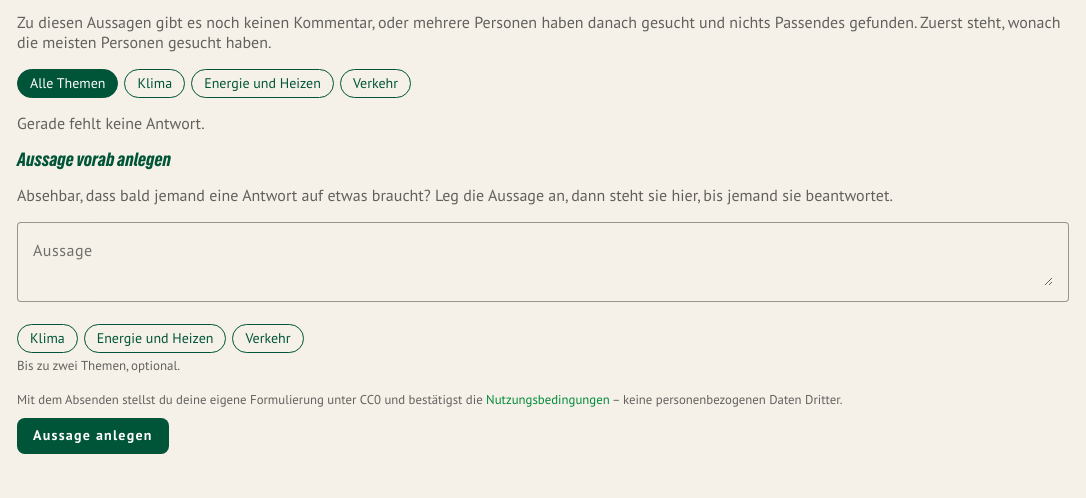
Test: HierFehltEineAntwortComponent › Aussage vorab anlegen › sagt, wenn die neue Aussage ihre Themen nicht bekam
Type "Das Heizungsgesetz enteignet uns" into the text box named "aussage". click: (543, 262)
box: left=33, top=238, right=1053, bottom=286
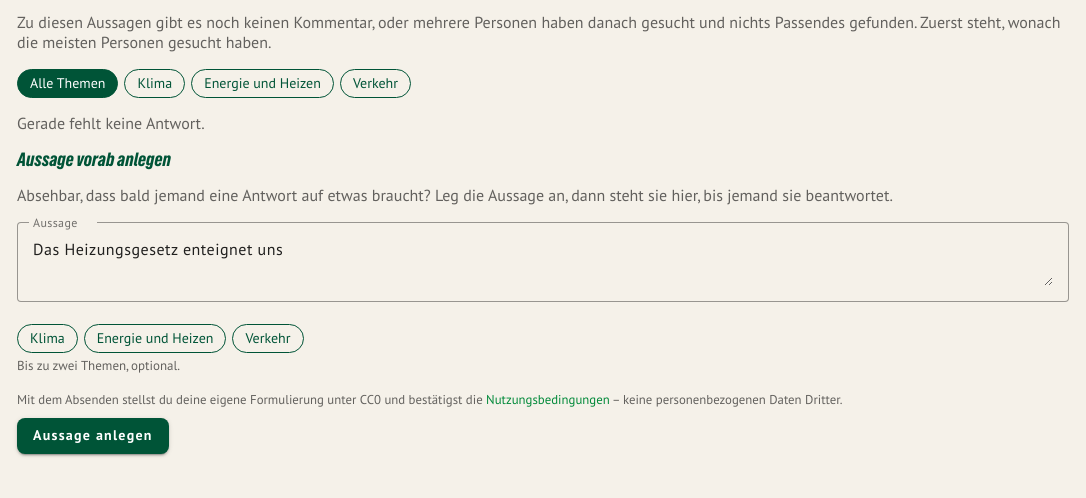
Click the button "Klima" below "Aussage vorab anlegen". click: (47, 338)
box: left=17, top=324, right=78, bottom=353
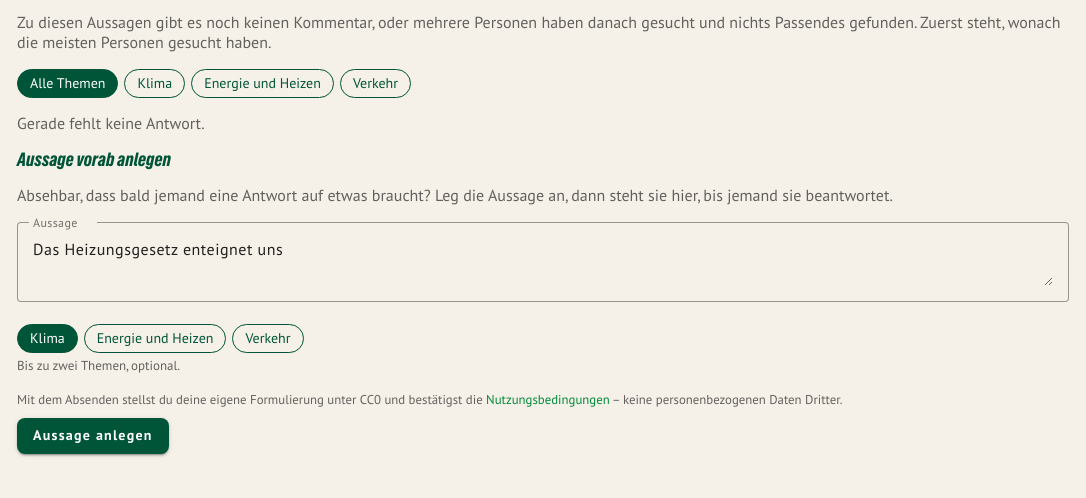
Click the button with class "aussage-anlegen". click: (93, 436)
box: left=17, top=418, right=169, bottom=454
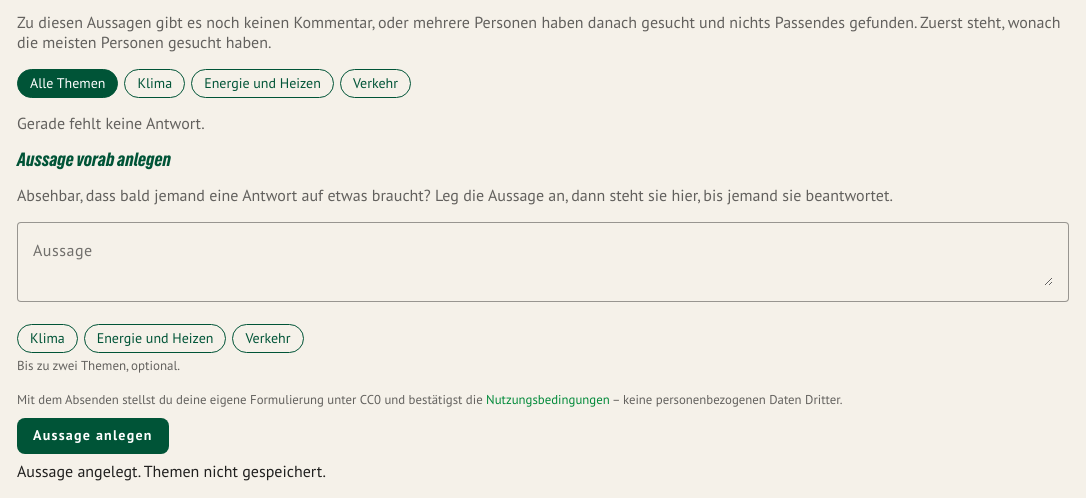
Result: the text "Aussage angelegt. Themen nicht gespeichert." is shown at left=17, top=463, right=326, bottom=481
